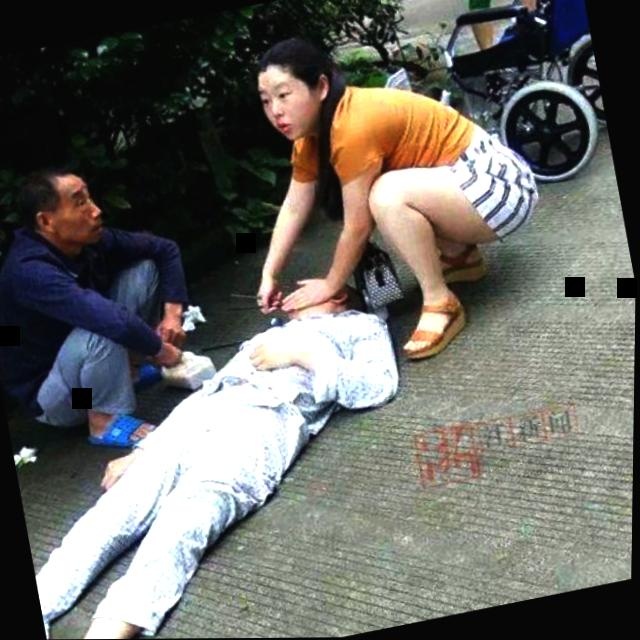Fall-Detected: (0, 248, 466, 640)
